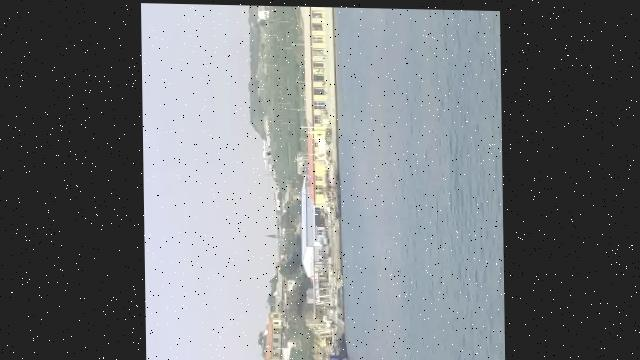drone: (259, 136, 272, 169)
